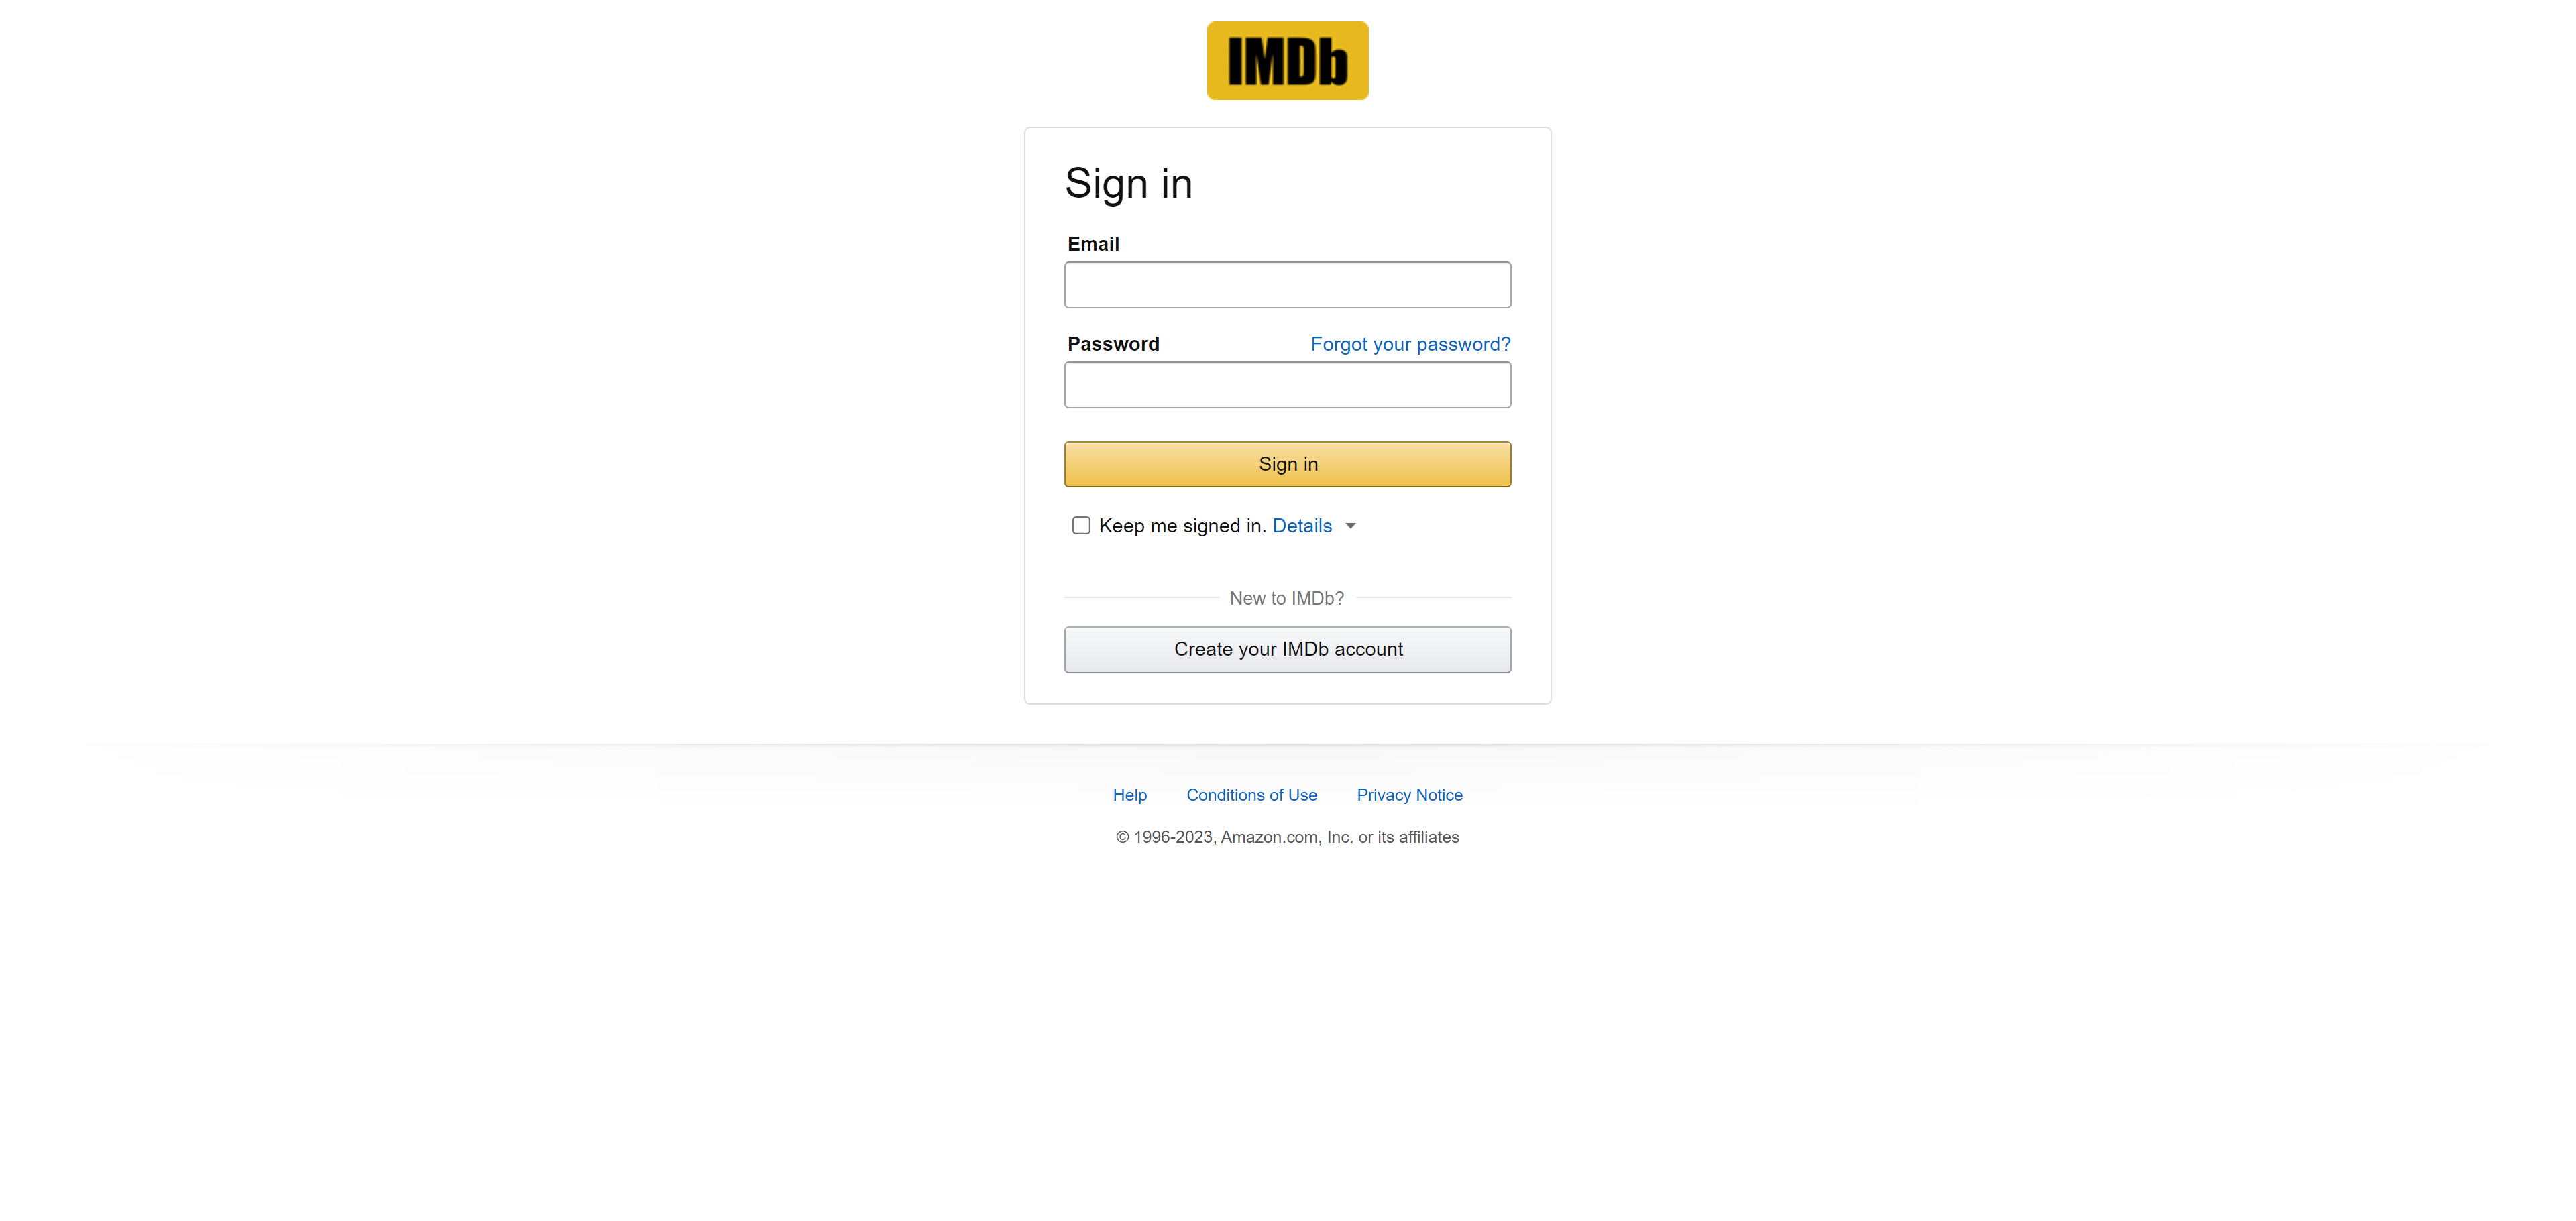login_button: (1065, 440, 1511, 486)
login_form: (1055, 232, 1523, 496)
